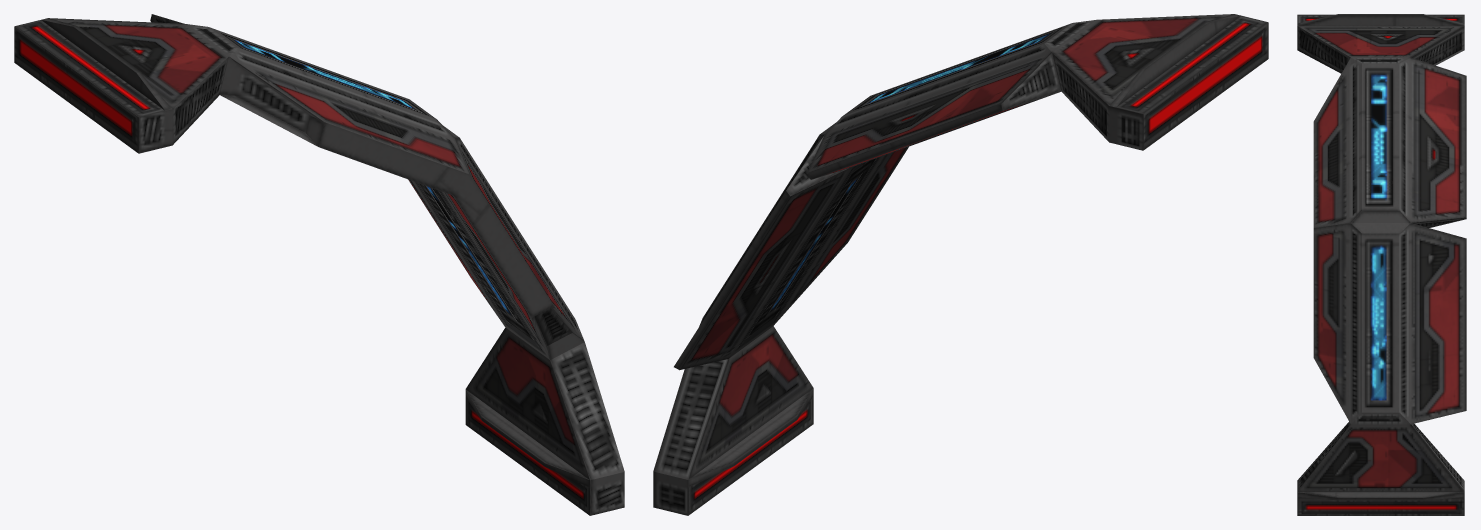
Rendered from BFP_JumpgatePanel02_UpperRight.FBX.
3 views of the same model, side by side, from view 1: azimuth 30°, elevation 25°; view 2: azimuth 150°, elevation 25°; view 3: azimuth 270°, elevation 25° (orthographic). The views are drawn at different scales.
Visible parts, largest first — view 1: GateSection03, GateSection01, GateSection02; view 2: GateSection03, GateSection01, GateSection02; view 3: GateSection03, GateSection02, GateSection01.
Part boxes in pixels (x1=…): GateSection03: x1=150, y1=14, x2=584, y2=359; GateSection01: x1=14, y1=18, x2=228, y2=153; GateSection02: x1=465, y1=327, x2=624, y2=515; GateSection03: x1=674, y1=19, x2=1096, y2=370; GateSection01: x1=1052, y1=14, x2=1268, y2=150; GateSection02: x1=653, y1=326, x2=813, y2=515; GateSection03: x1=1313, y1=57, x2=1466, y2=424; GateSection02: x1=1297, y1=421, x2=1464, y2=515; GateSection01: x1=1297, y1=14, x2=1464, y2=73.
Bounding box in the file's own units: 1392 × 1392 × 608.
1 material, 1 textured.
